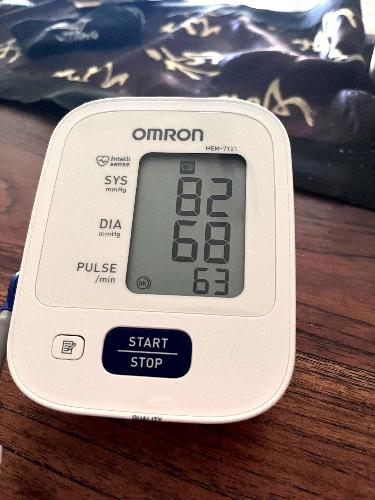bpm: (122, 146, 253, 299)
